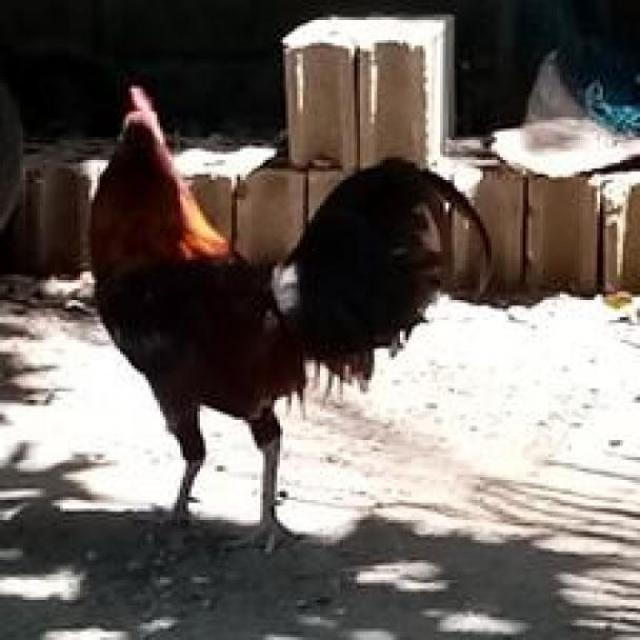Chicken: (81, 74, 480, 573)
